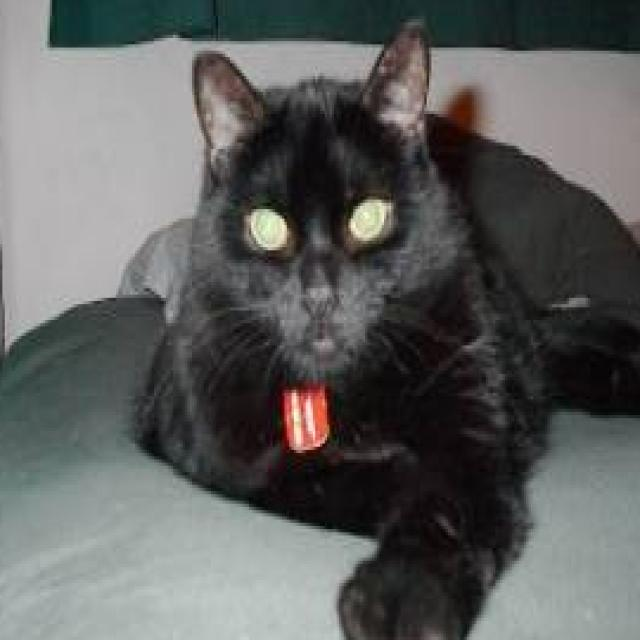Bombay: (132, 12, 640, 640)
